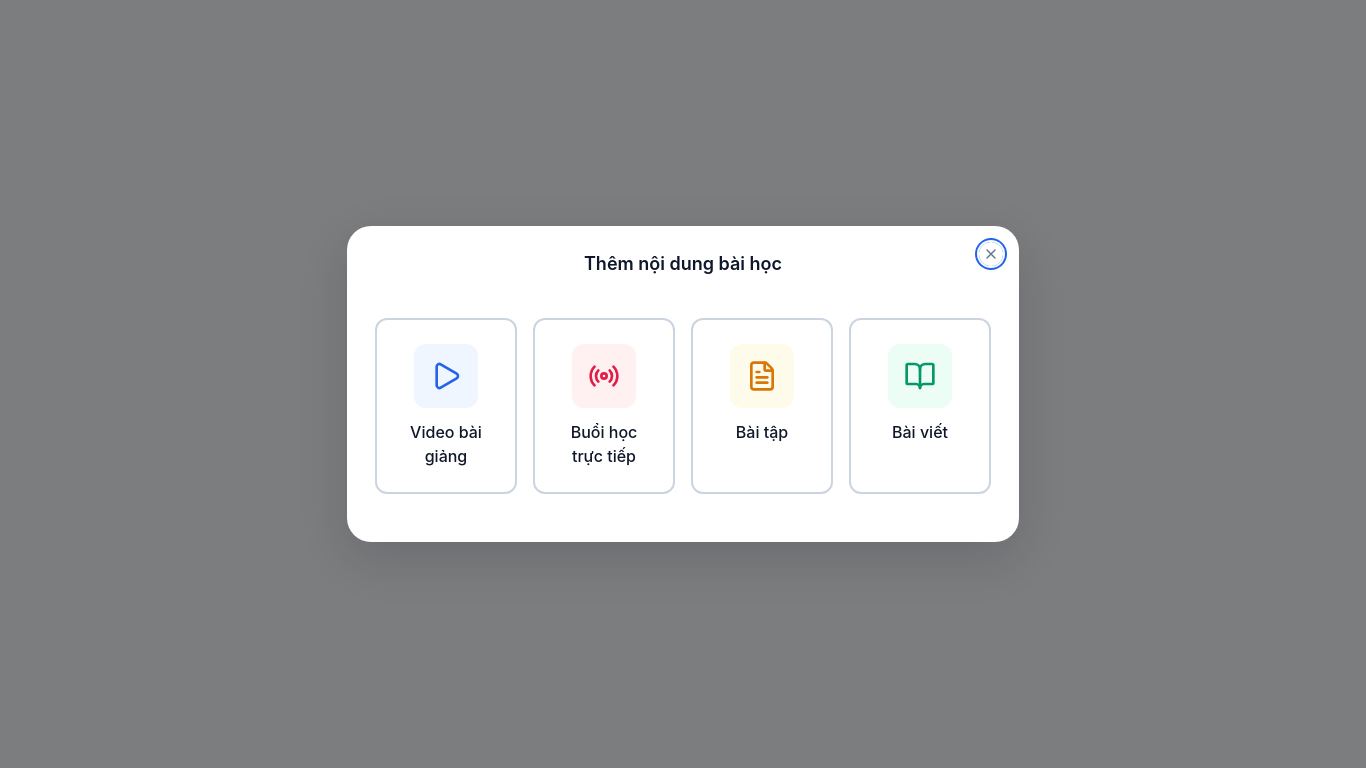
Scenario: AddContentModal — nhãn nút lưu (Q2-09) › bài tập code vẫn là 'Lưu bài tập'
This screenshot has width=1366, height=768.
Click the button "Bài tập" at [762, 406], box [691,318,833,494]
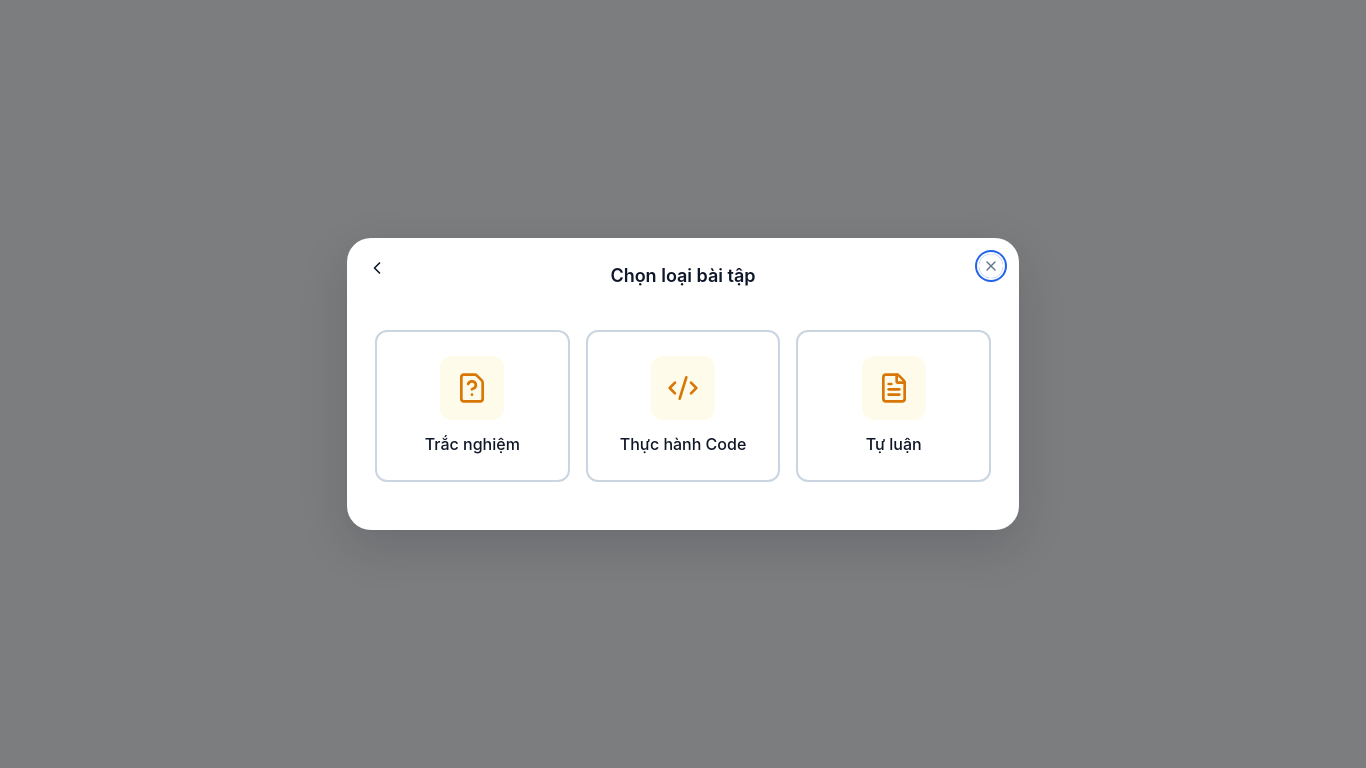
Click the button "Thực hành Code" at [683, 406], box [586,330,780,482]
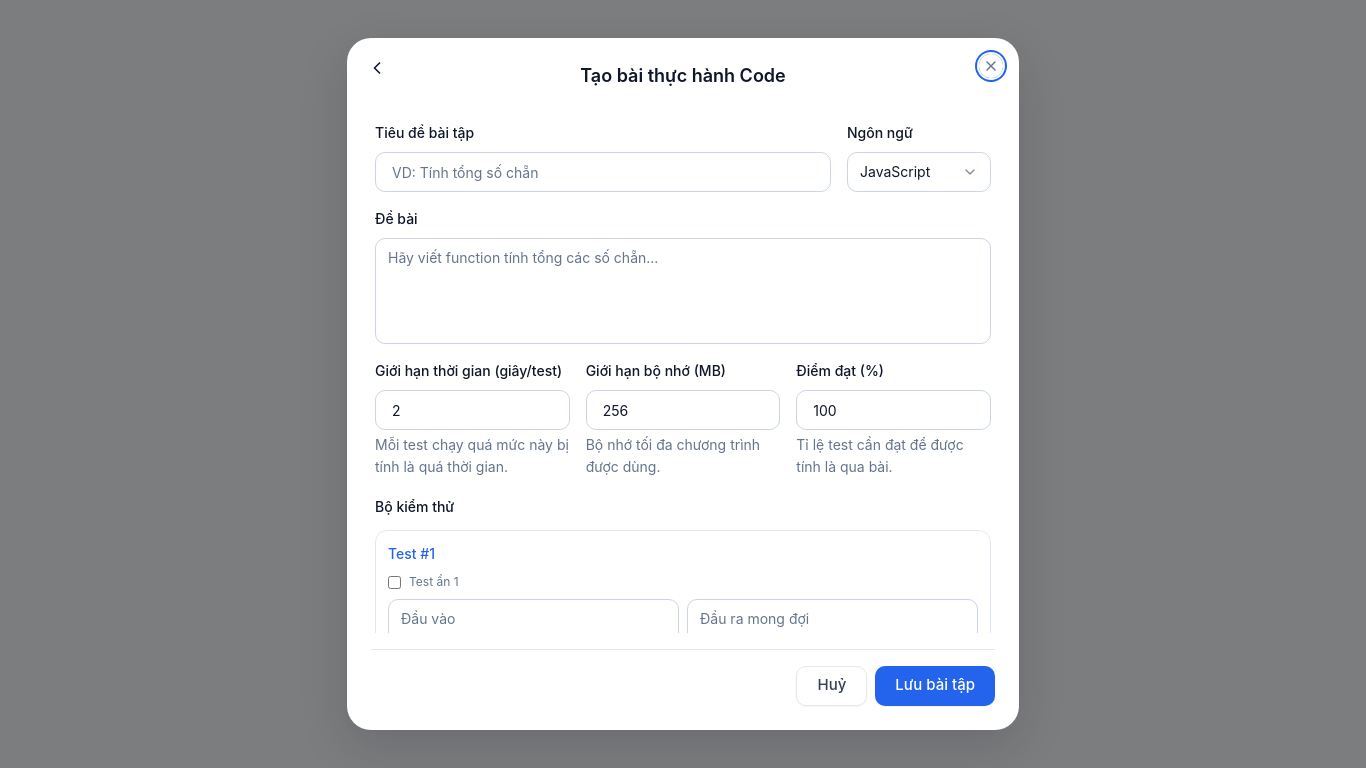
expect the button "Lưu bài tập" is shown: met, box [875,666,995,706]
